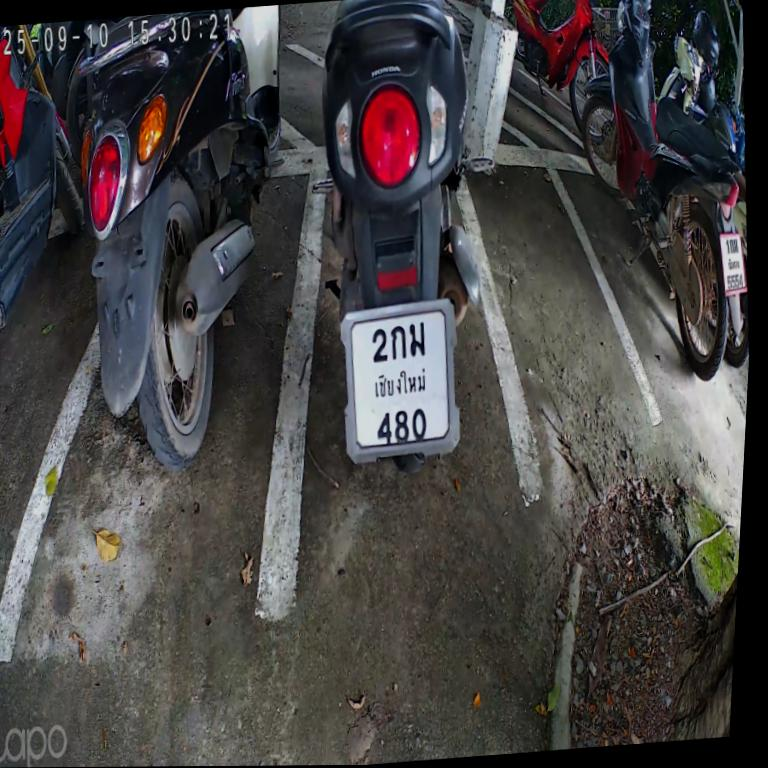license plate: (327, 290, 476, 477), (711, 221, 751, 299)
